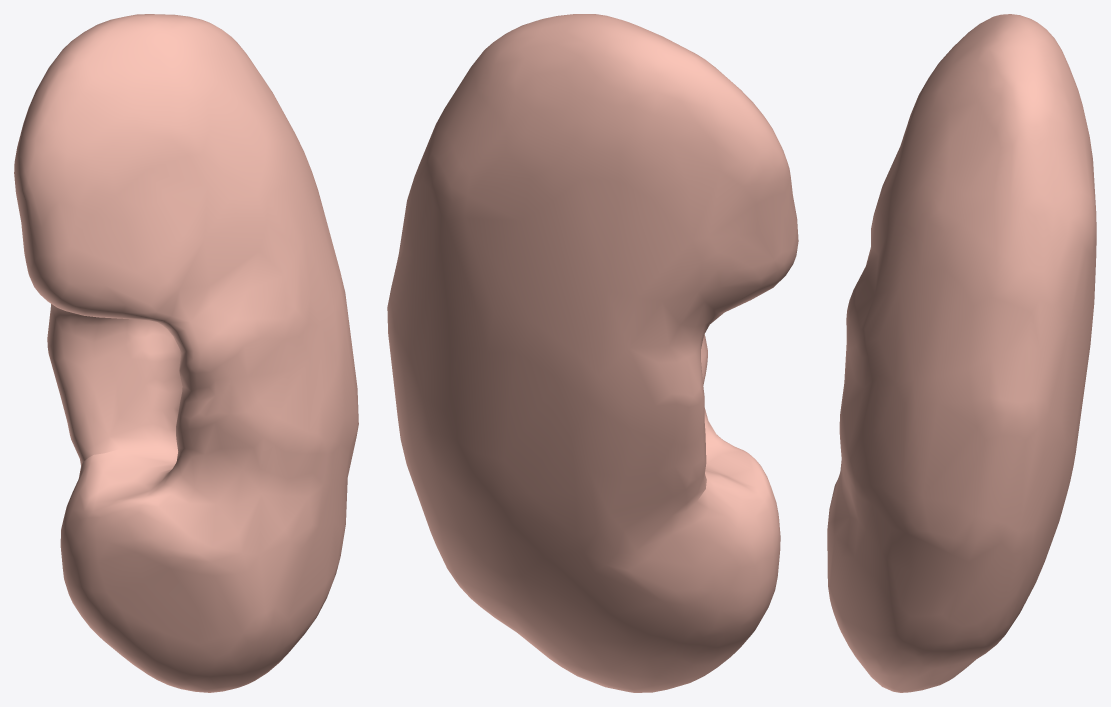
The model's file is left-kidney.glb.
3 renders of one model, left to right at view 1: azimuth 30°, elevation 25°; view 2: azimuth 150°, elevation 25°; view 3: azimuth 270°, elevation 25°, orthographic. The views are drawn at different scales.
Visible parts, largest first — view 1: FJ3145; view 2: FJ3145; view 3: FJ3145.
Boxes of the visible parts, x1=… form: FJ3145: x1=14, y1=14, x2=358, y2=692; FJ3145: x1=387, y1=14, x2=798, y2=692; FJ3145: x1=827, y1=14, x2=1096, y2=692.
Size of the model in its own units: 0.1726 by 0.3178 by 0.1218.
